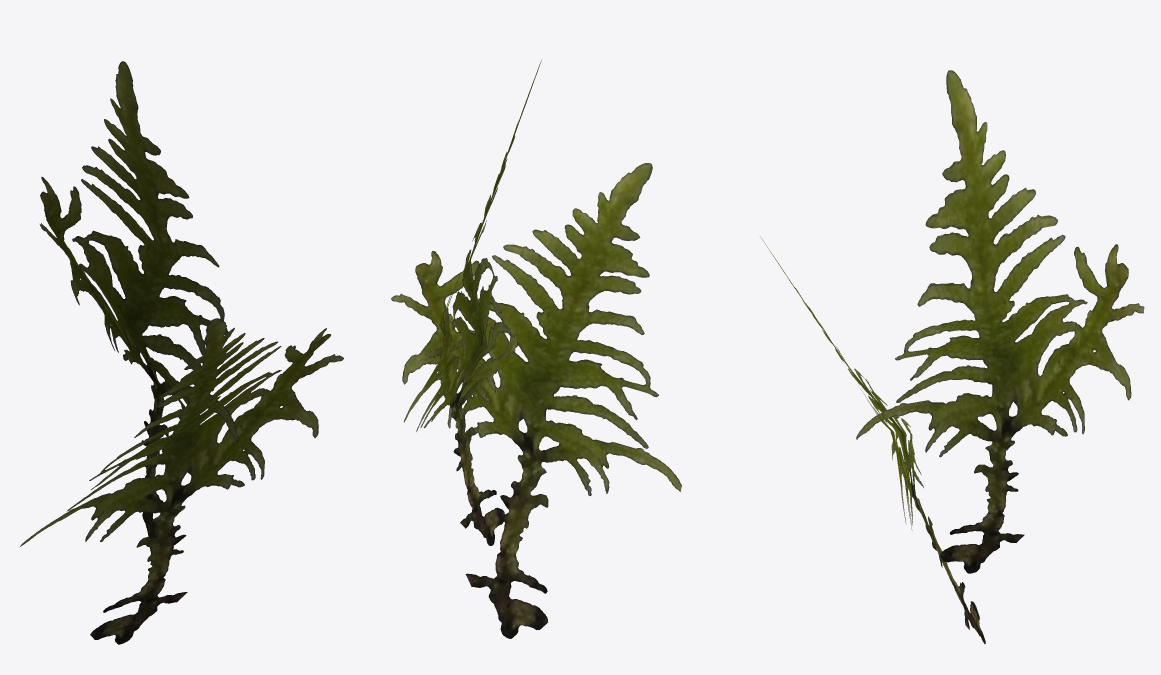
Rendered from moss_01_d_LOD1.glb.
3 renders of one model, left to right at view 1: azimuth 30°, elevation 25°; view 2: azimuth 150°, elevation 25°; view 3: azimuth 270°, elevation 25°, orthographic. The views are drawn at different scales.
Parts seen in each view (by area): view 1: moss_01_d_LOD1__lod0; view 2: moss_01_d_LOD1__lod0; view 3: moss_01_d_LOD1__lod0.
Part boxes in pixels (left/top/right/bottom): moss_01_d_LOD1__lod0: left=19, top=61, right=343, bottom=644; moss_01_d_LOD1__lod0: left=391, top=60, right=681, bottom=638; moss_01_d_LOD1__lod0: left=760, top=70, right=1144, bottom=643.
Size of what is drawn, in the model's own units: 0.0136 by 0.0267 by 0.0156.
1 material, 1 textured.
